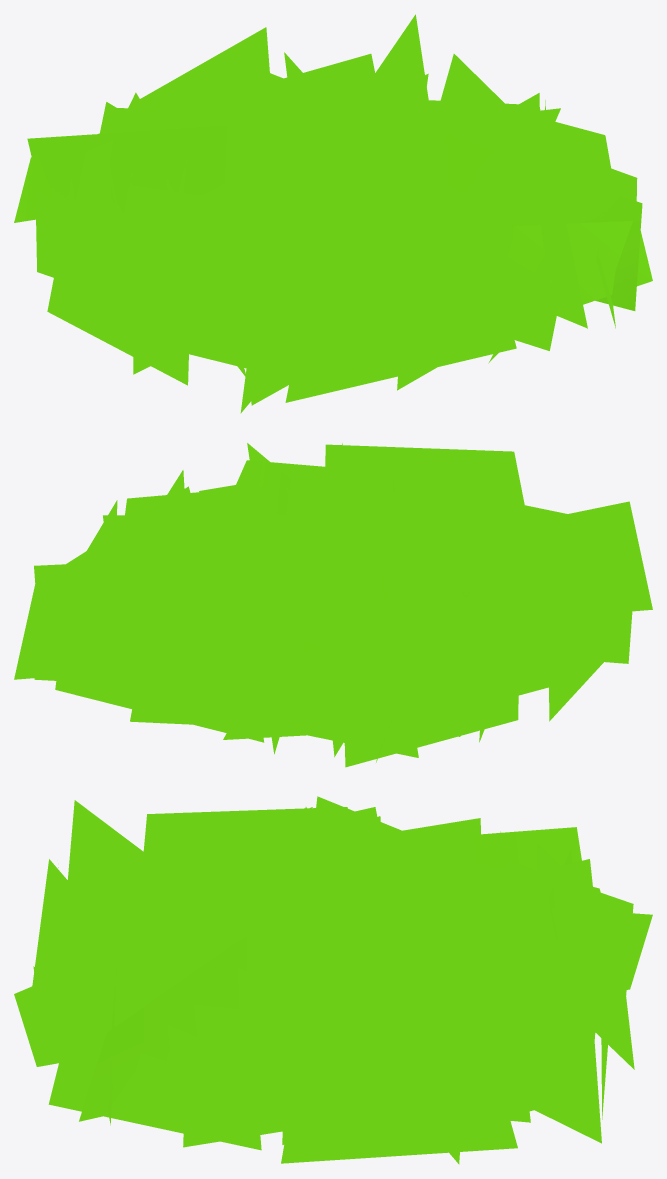
Rendered from Grass.fbx.
The picture shows the model from 3 angles, top to bottom: view 1: azimuth 30°, elevation 25°; view 2: azimuth 150°, elevation 25°; view 3: azimuth 270°, elevation 25°; orthographic projection. The views are drawn at different scales.
Parts seen in each view (by area): view 1: Grass_LOD0; view 2: Grass_LOD0; view 3: Grass_LOD0.
Boxes of the visible parts, x1,y1,x2,y2 form: Grass_LOD0: (14,14,652,413); Grass_LOD0: (14,443,652,767); Grass_LOD0: (14,796,652,1164).
Size of what is drawn, in the model's own units: 201 by 50.03 by 197.
